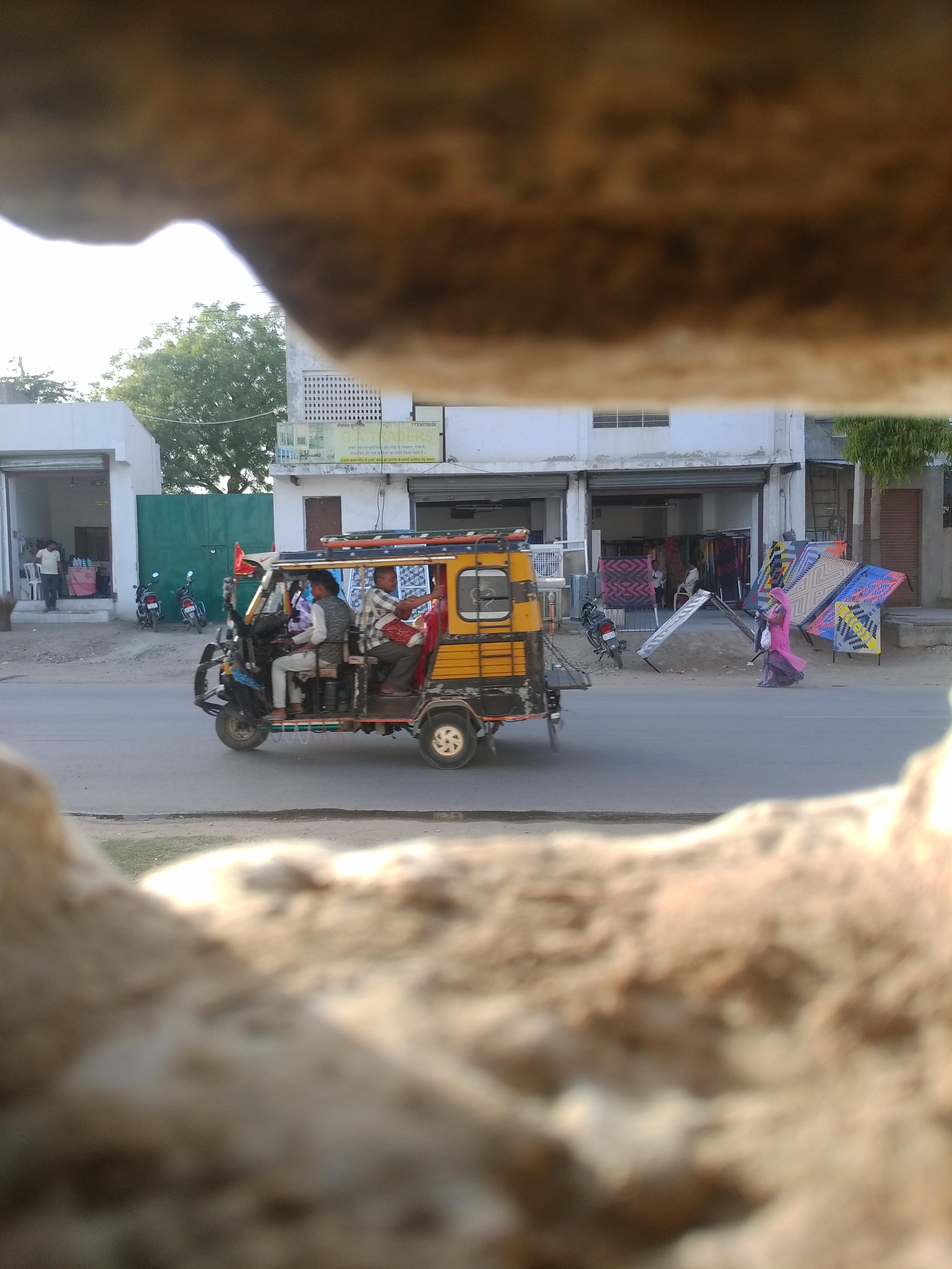Non-emergency: (140, 543, 633, 765)
